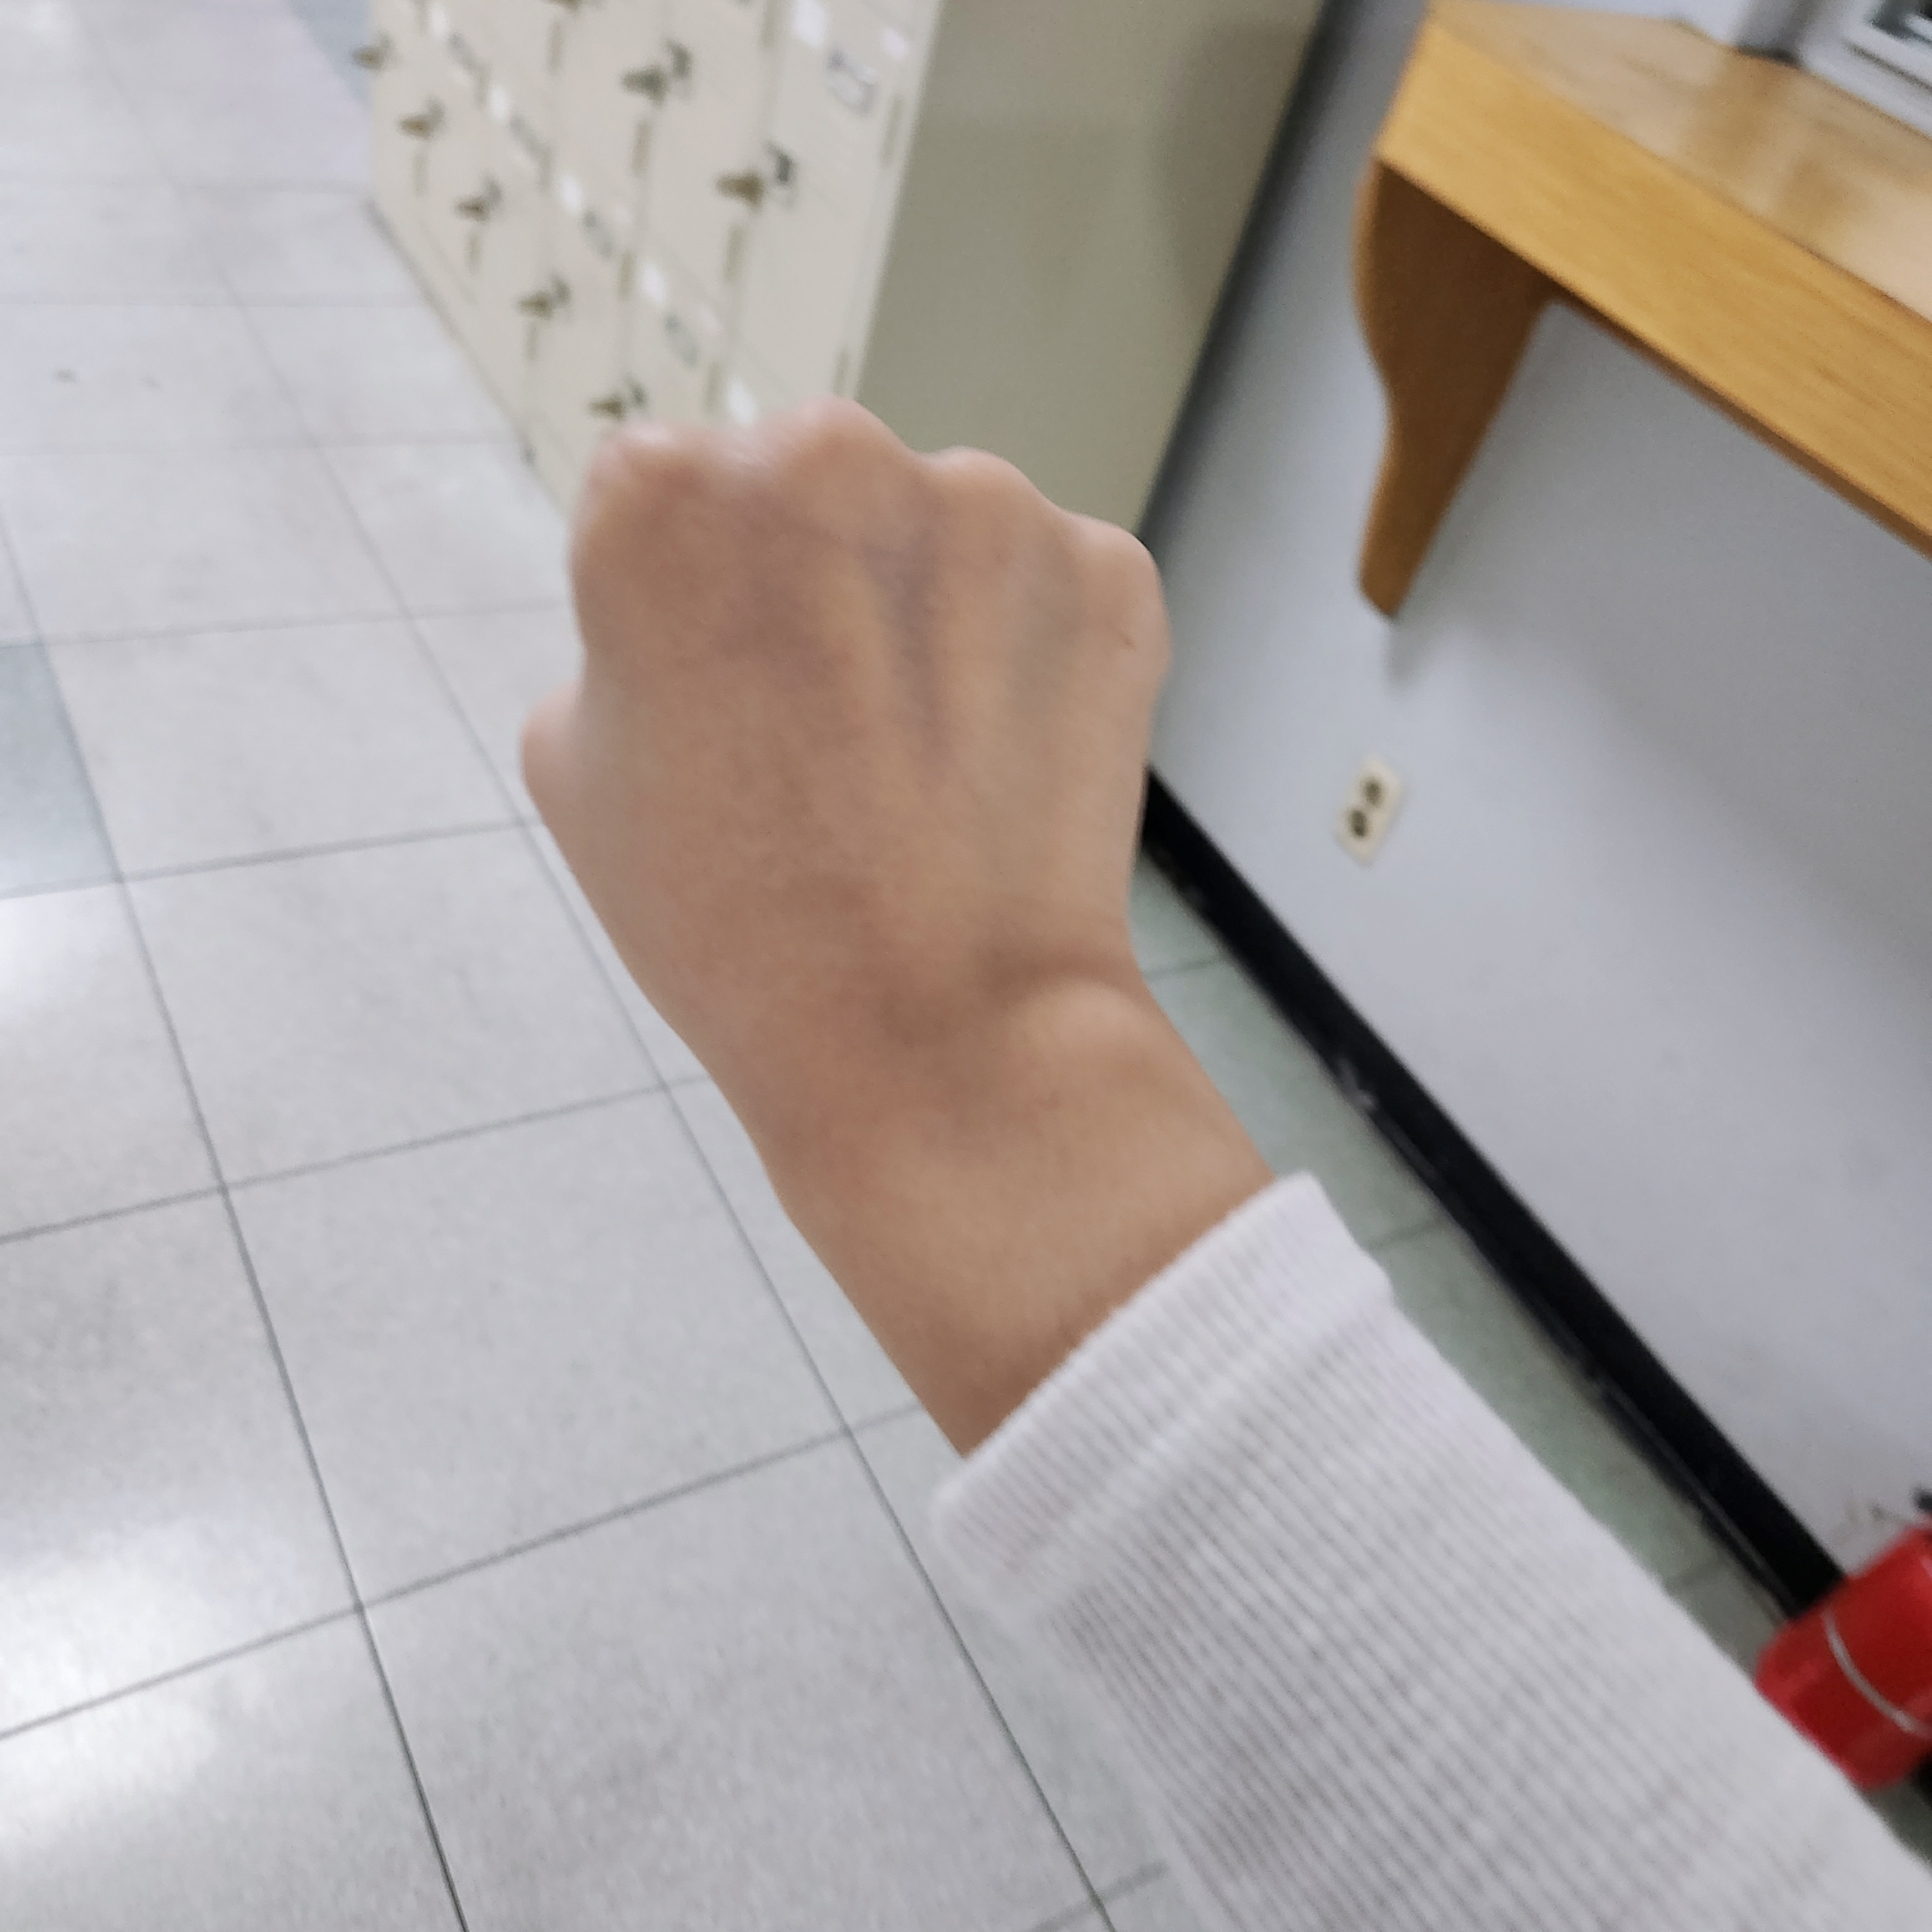smile: (515, 391, 1180, 1090)
